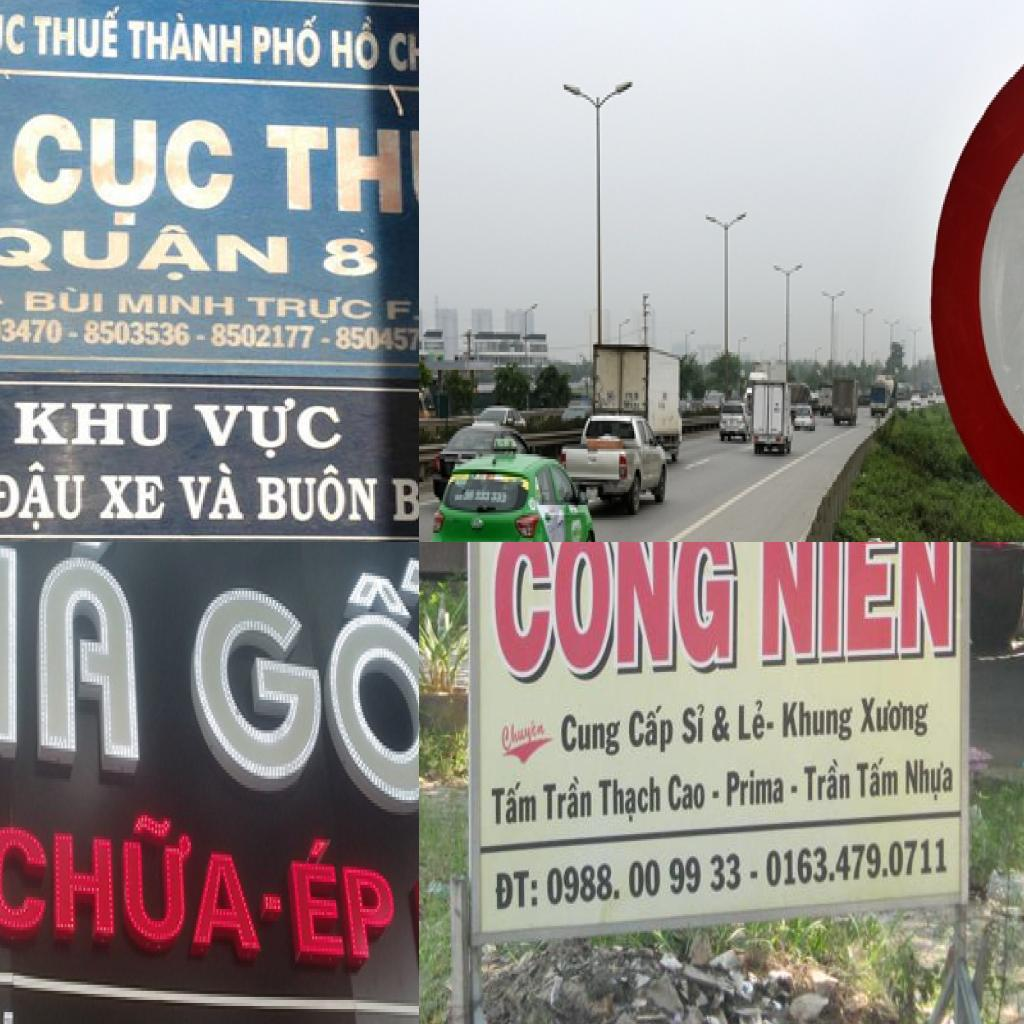text: (182, 542, 419, 842), (0, 778, 264, 966), (490, 542, 739, 689), (0, 542, 146, 781), (2, 103, 244, 228), (755, 542, 959, 670), (252, 100, 419, 230), (0, 218, 299, 281), (283, 821, 399, 979), (545, 848, 744, 911), (766, 831, 951, 892), (190, 394, 354, 461), (2, 398, 178, 454), (248, 463, 385, 530), (123, 8, 248, 72), (0, 456, 90, 538), (29, 0, 123, 63), (174, 458, 250, 527), (248, 11, 332, 73), (88, 467, 170, 529), (244, 289, 377, 326), (306, 233, 398, 280), (854, 687, 934, 740), (780, 690, 854, 744), (113, 288, 244, 318), (328, 10, 385, 77), (597, 772, 662, 826), (209, 322, 318, 354), (558, 708, 624, 760), (722, 762, 788, 812), (82, 320, 195, 349), (25, 285, 109, 320), (626, 699, 675, 757), (540, 772, 594, 824), (903, 756, 958, 805), (336, 328, 419, 357), (803, 757, 853, 805), (490, 776, 538, 825), (494, 865, 540, 916), (496, 715, 550, 757), (854, 754, 900, 802), (0, 315, 63, 347), (667, 769, 707, 819), (389, 464, 419, 528), (387, 20, 419, 77), (0, 5, 28, 69), (738, 696, 767, 744), (680, 699, 708, 747), (710, 698, 736, 748), (383, 294, 419, 328), (64, 329, 84, 340), (708, 790, 722, 805), (195, 332, 209, 345), (747, 868, 761, 880), (320, 335, 332, 346), (766, 718, 776, 730), (790, 784, 799, 794)
